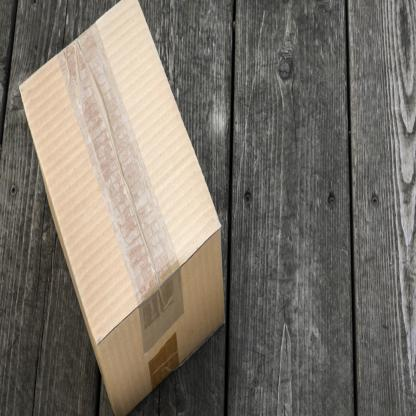package: (17, 0, 226, 416)
